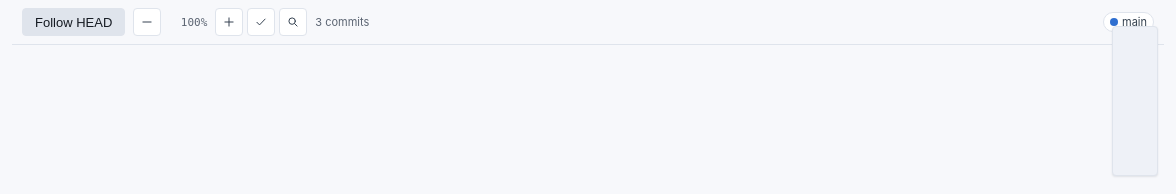
Test: the zoom buttons change the scale and the % readout, and 100% restores it
Expected: the text "100%" is shown, [181, 16, 207, 28]
Click the button named "zoom in" at (229, 22), box [215, 8, 243, 36]
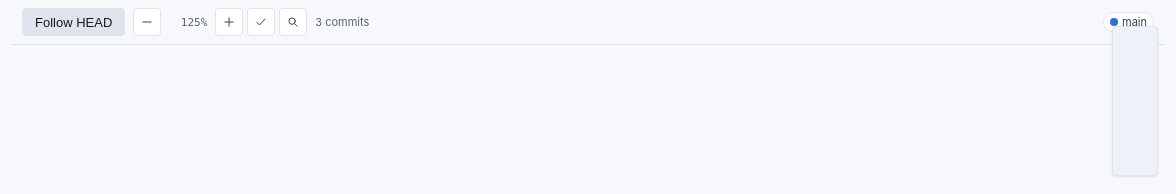
Expected: the text "125%" is shown, [181, 16, 207, 28]
Click the button named "zoom in" at (229, 22), box [215, 8, 243, 36]
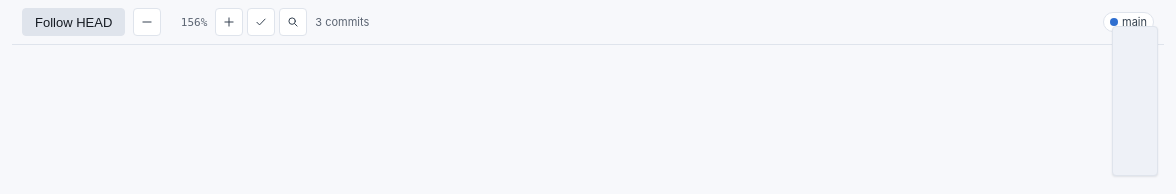
Expected: the text "156%" is shown, [181, 16, 207, 28]
Click the button named "zoom out" at (147, 22), box [133, 8, 161, 36]
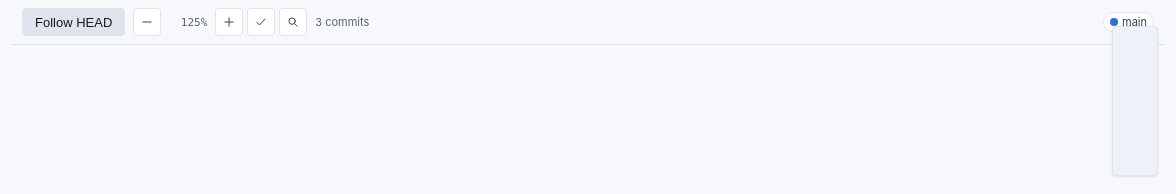
Expected: the text "125%" is shown, [181, 16, 207, 28]
Click the button named "100%" at (261, 22), box [247, 8, 275, 36]
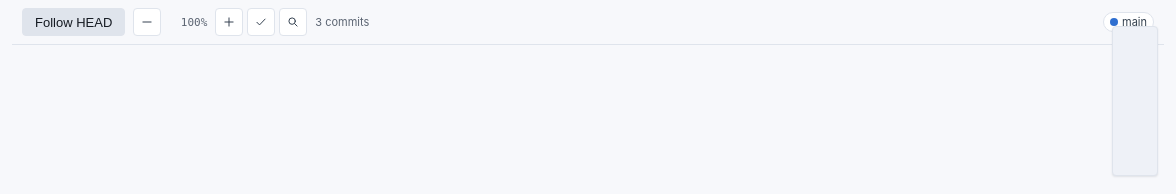
Expected: the text "100%" is shown, [181, 16, 207, 28]
